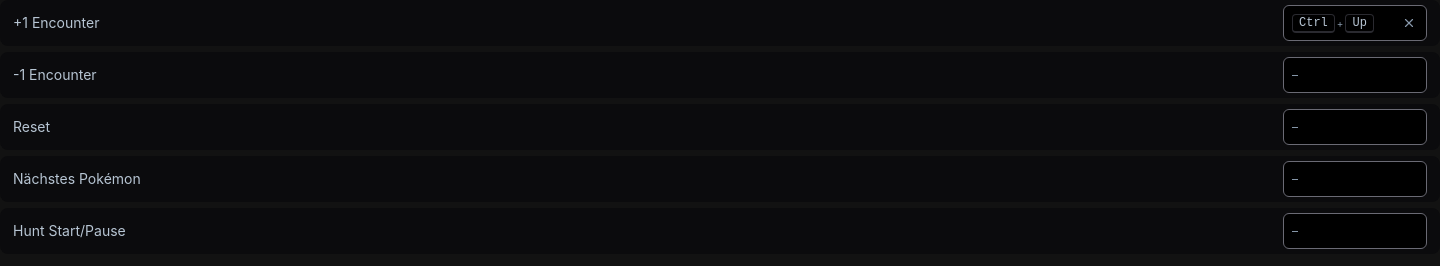
HotkeySettings › cancels recording on Escape without writing
Click the button named "-1 Encounter: Keine Taste zugewiesen": click(1355, 75) [1283,57,1427,93]
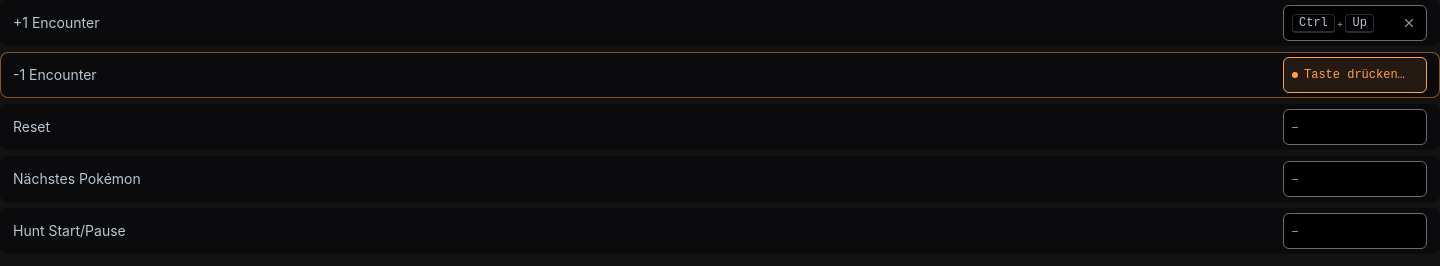
Press Escape
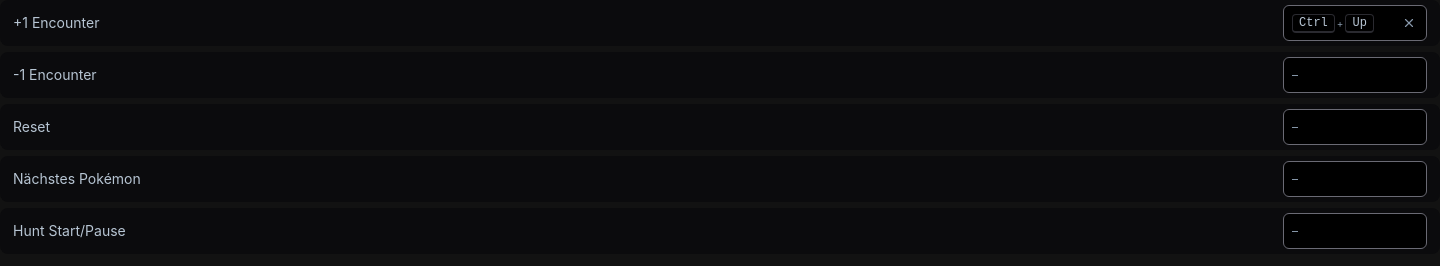
Now the button named "-1 Encounter: Keine Taste zugewiesen" is shown, box [1283,57,1427,93]
